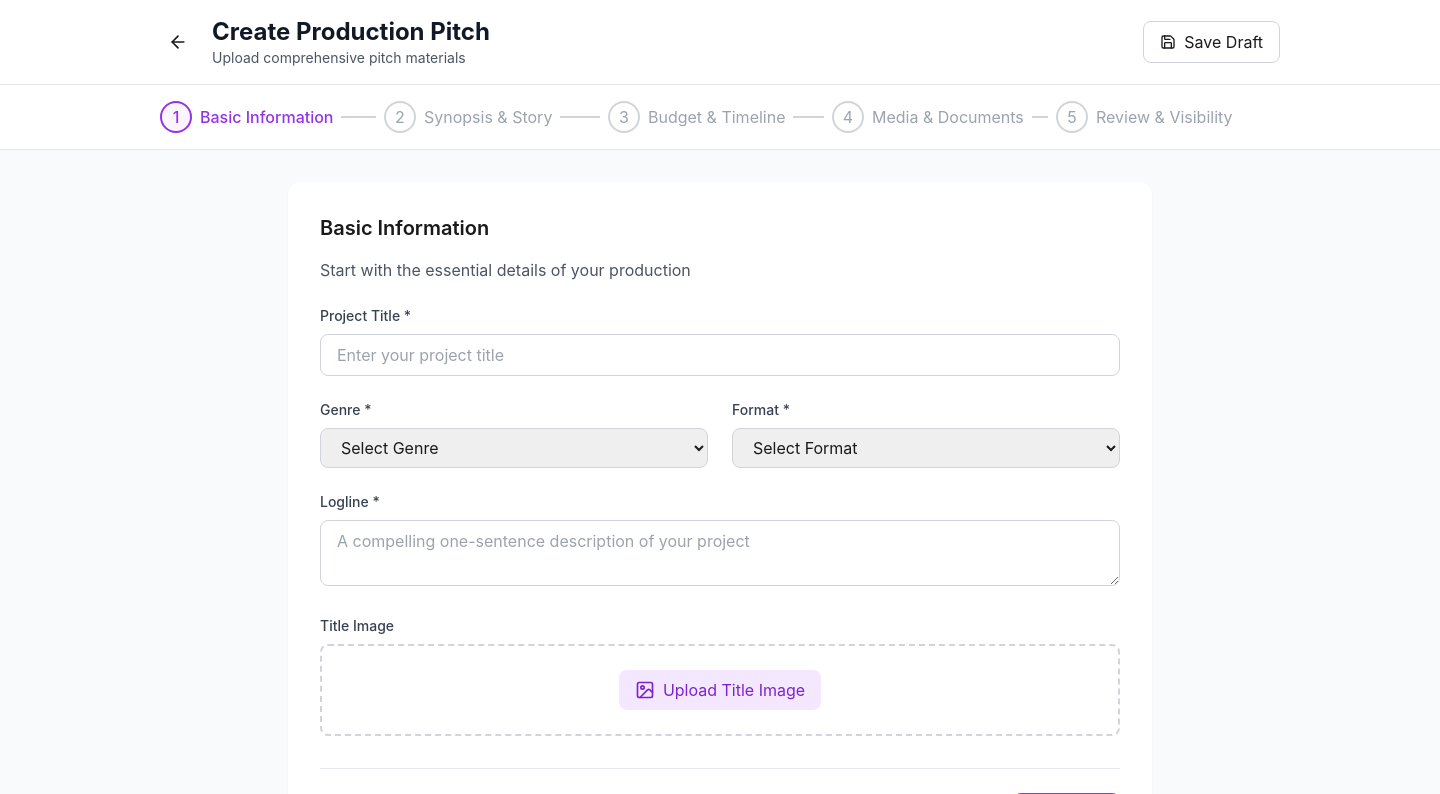
Test: ProductionPitchCreate › Step 2: Synopsis & Story › shows validation error when Short Synopsis is empty on next
Type "My Film" into the field with placeholder "Enter your project title" at (720, 355), box x1=320 y1=334 x2=1120 y2=376
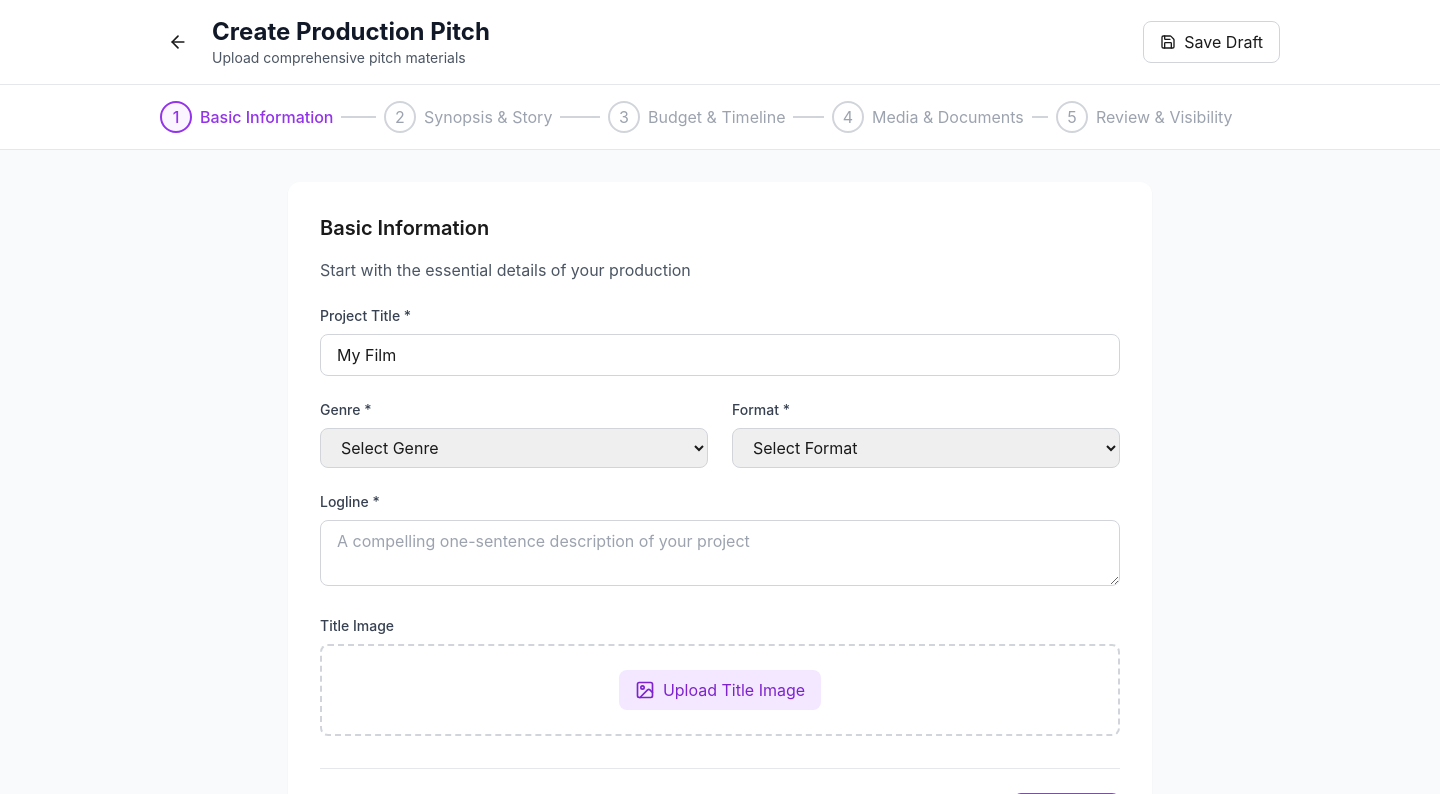
Select "Action" in the dropdown below "Genre *" at (514, 448), box x1=320 y1=428 x2=708 y2=468
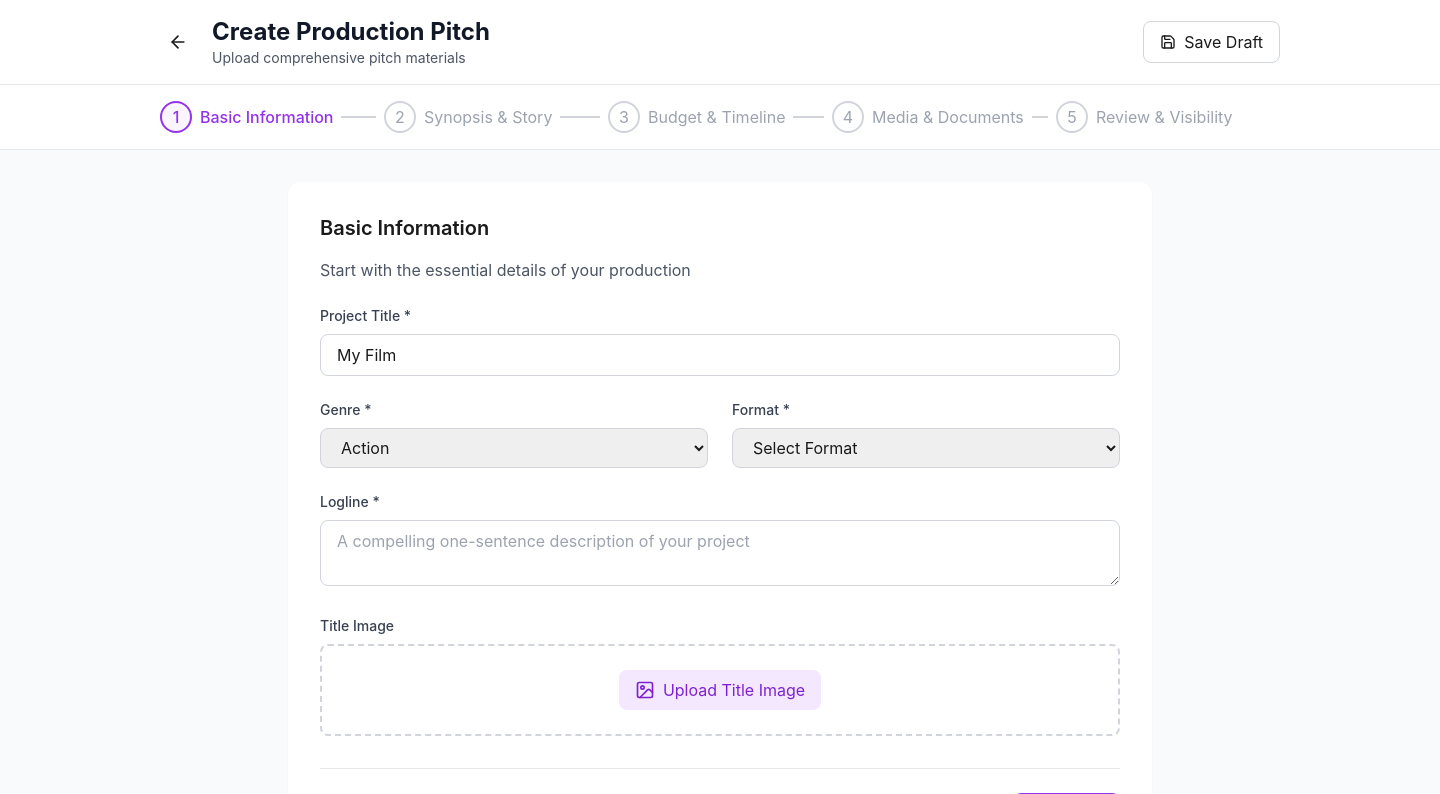
Select "Feature Film" in the dropdown below "Format *" at (926, 448), box x1=732 y1=428 x2=1120 y2=468
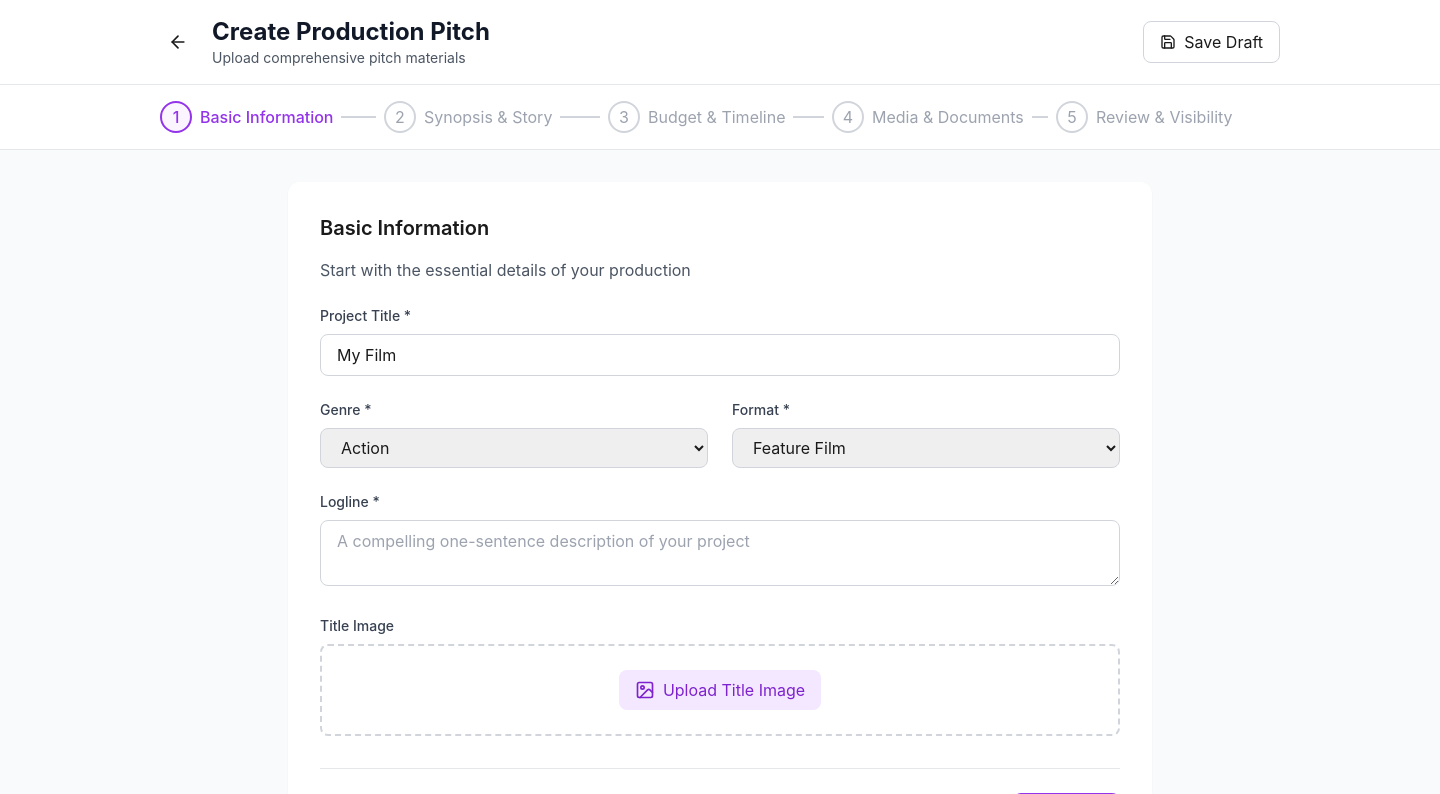
Type "A hero on a journey" into the text box with placeholder "A compelling one-sentence description of your project" at (720, 553), box x1=320 y1=520 x2=1120 y2=586
(page scrolled)
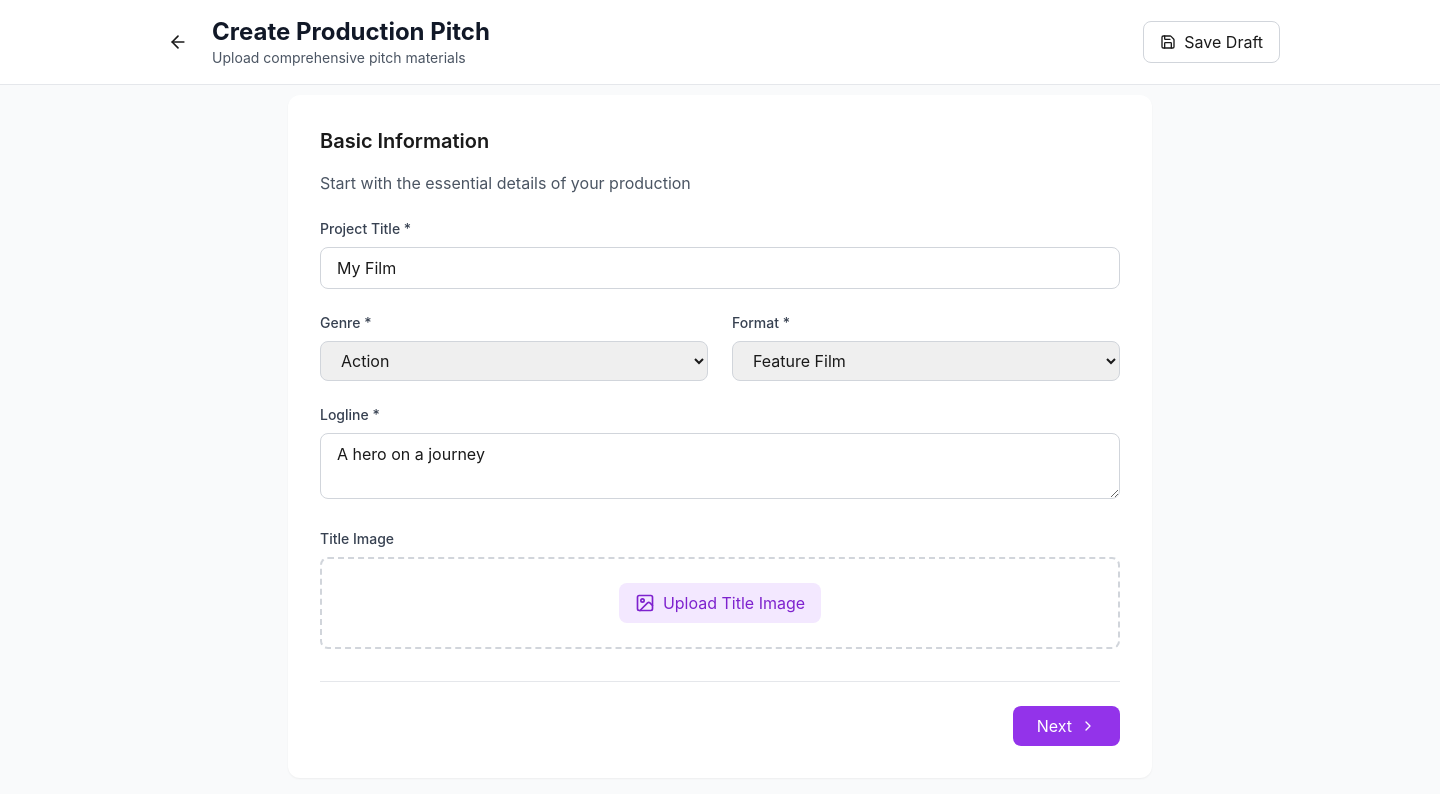
Click the button "Next" at (1066, 726), box x1=1013 y1=706 x2=1120 y2=746
(page scrolled)
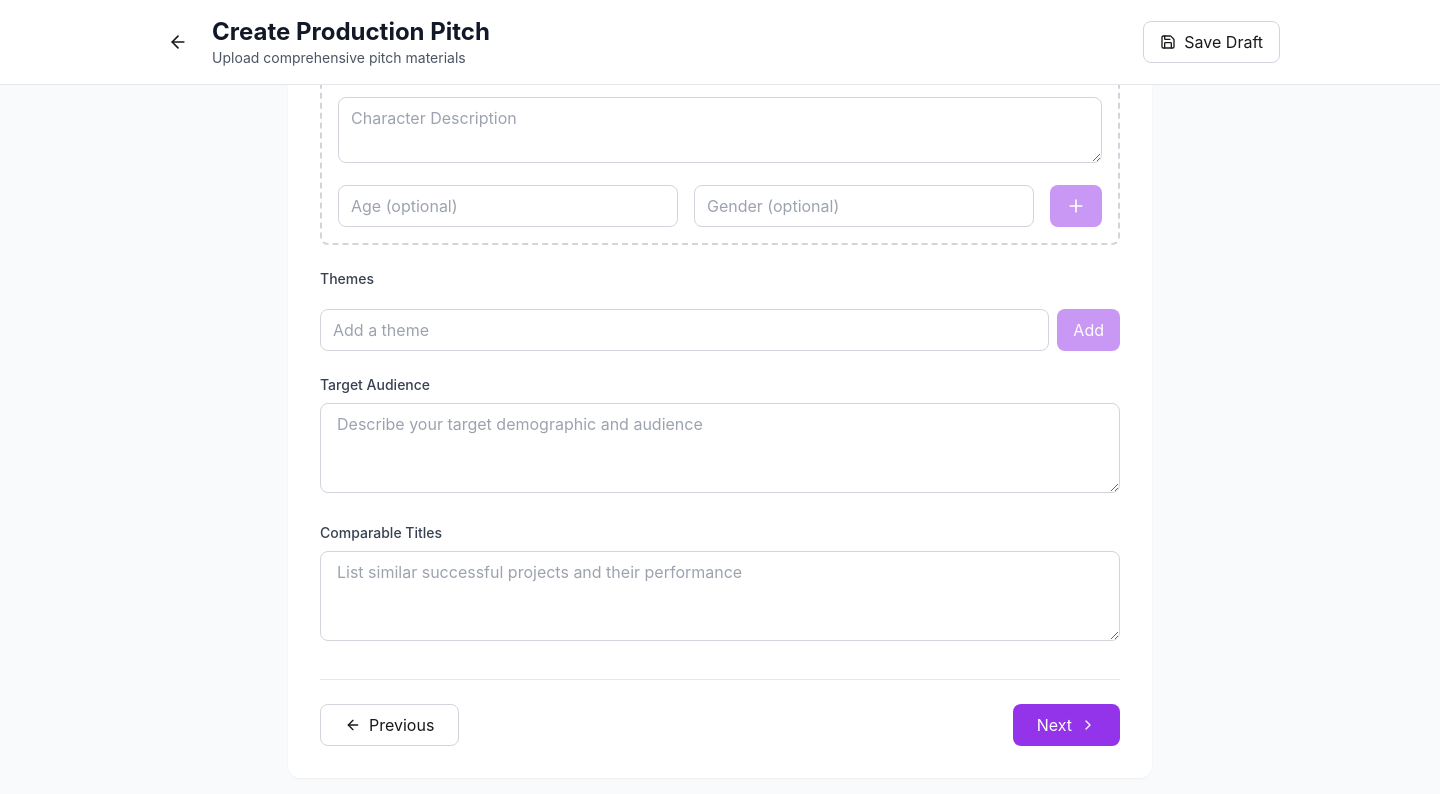
Click the button "Next" at (1066, 725), box x1=1013 y1=704 x2=1120 y2=746
(page scrolled)
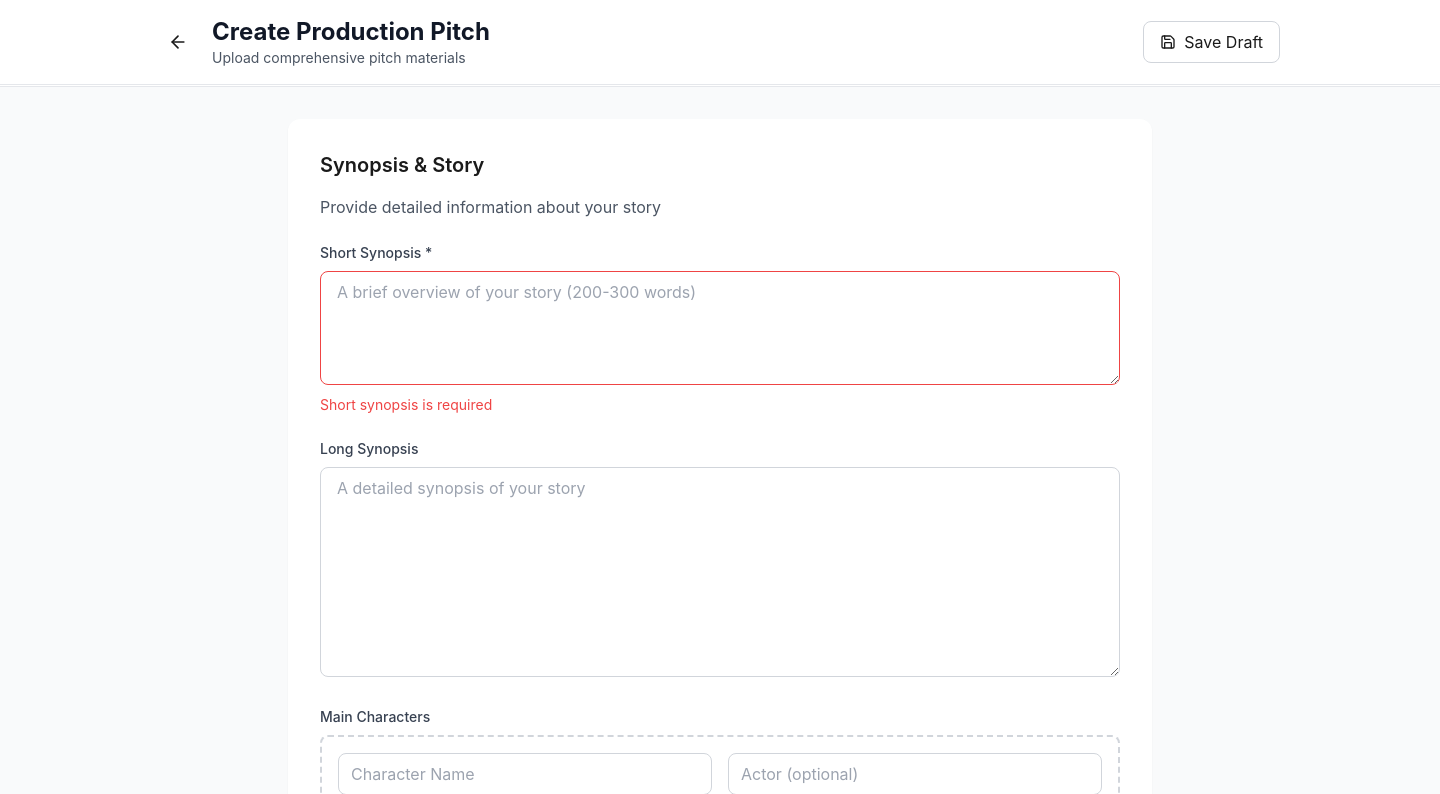
Now the text "Short synopsis is required" is shown, box x1=320 y1=396 x2=492 y2=413
